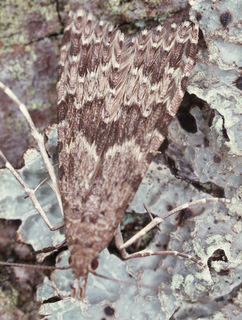Alucitidae: (2, 5, 236, 305)
moth: (1, 3, 234, 303)
